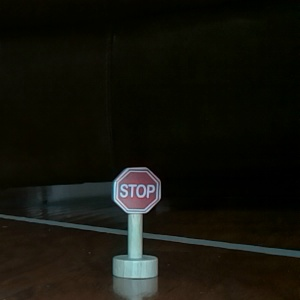stop sign: (111, 164, 162, 279)
